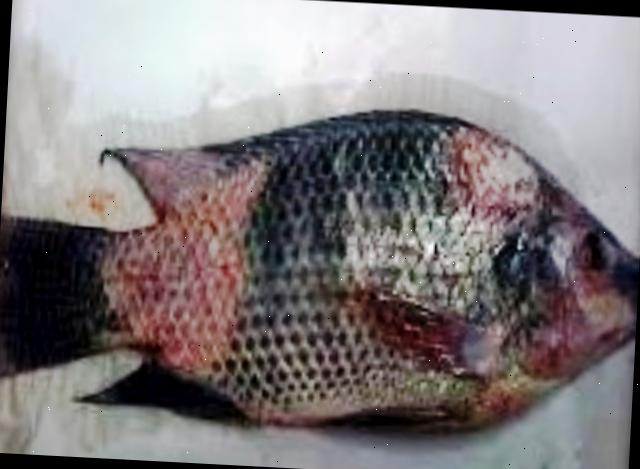Tilapia Lake Virus -TiLV-: (0, 110, 638, 426), (0, 111, 636, 426)
